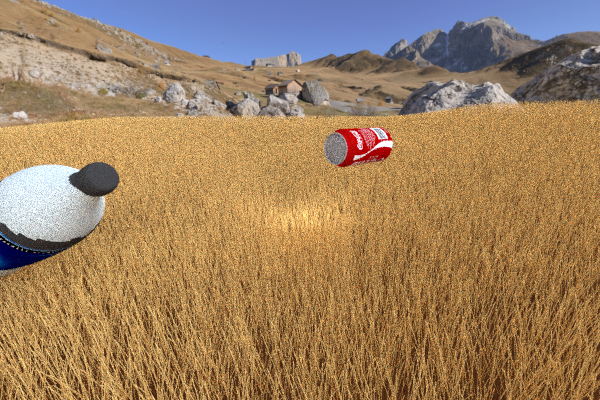Plastic Bottle: (0, 161, 119, 282), (323, 127, 392, 167), (200, 114, 235, 134)
